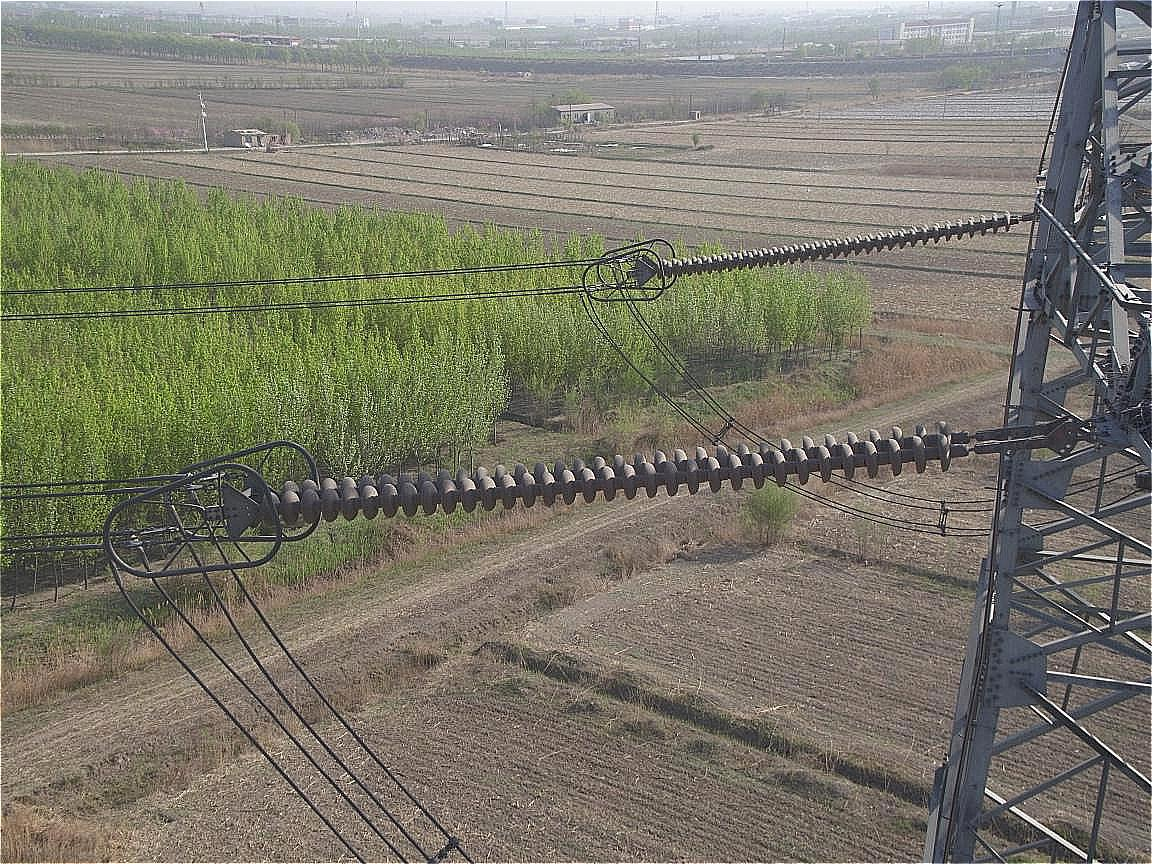insultor1: (235, 414, 965, 532), (645, 206, 1025, 295)
